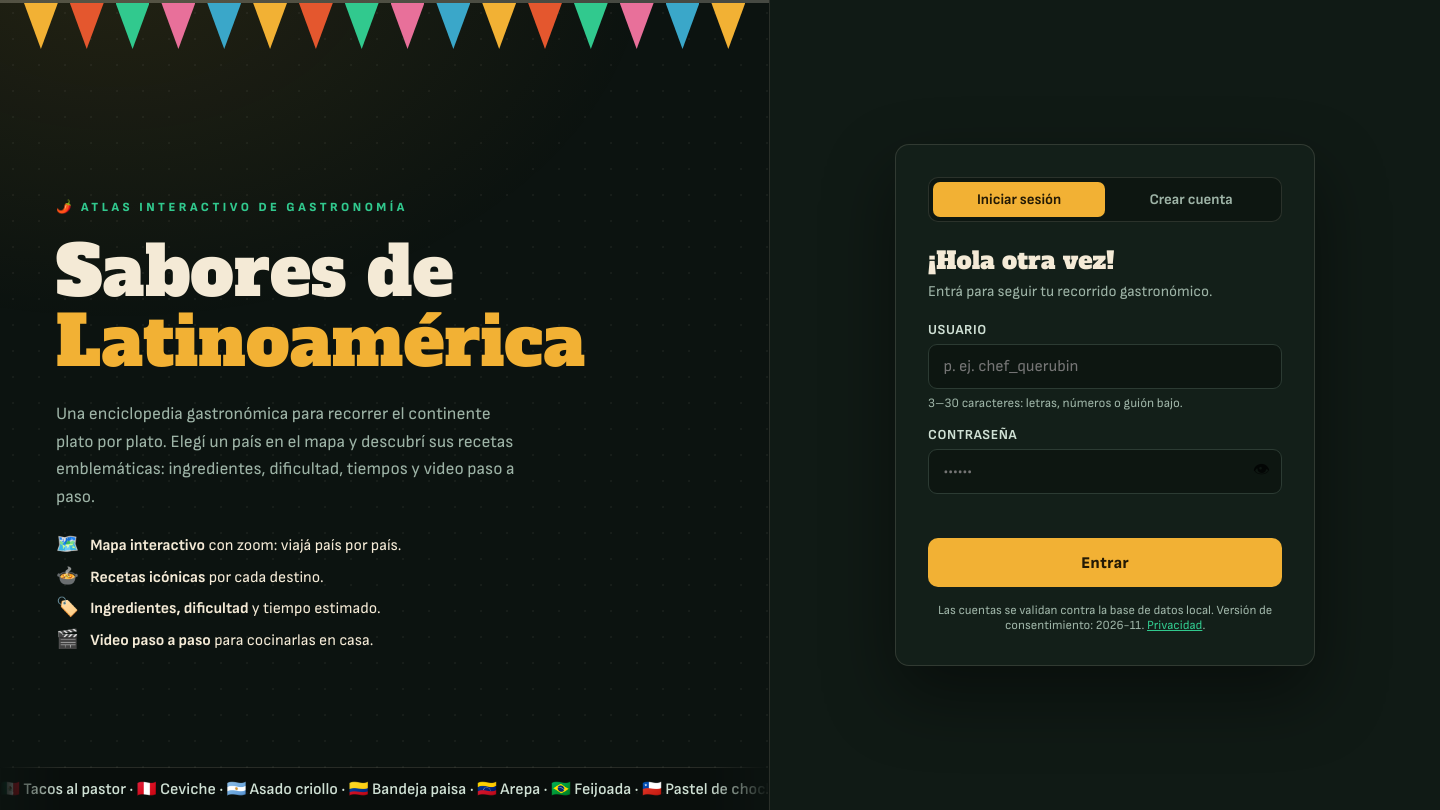
Test: pantalla de auth › no envía el registro si faltan los consentimientos
Click the tab "Crear cuenta".
click(1191, 199)  # box [1105, 182, 1277, 217]
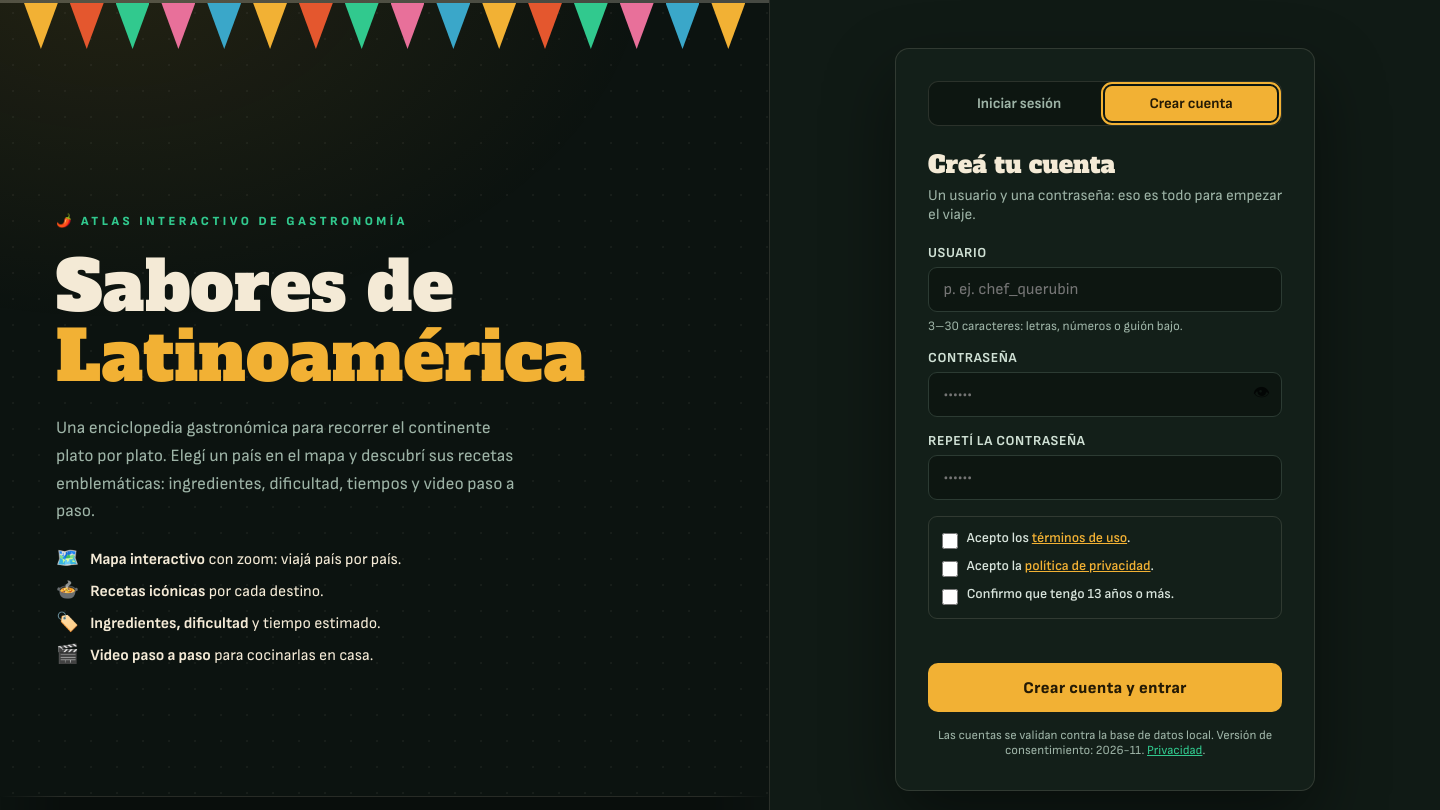
Type "nueva_persona" into the field labelled "Usuario".
click(1105, 290); type("nueva_persona")  # box [928, 267, 1282, 312]
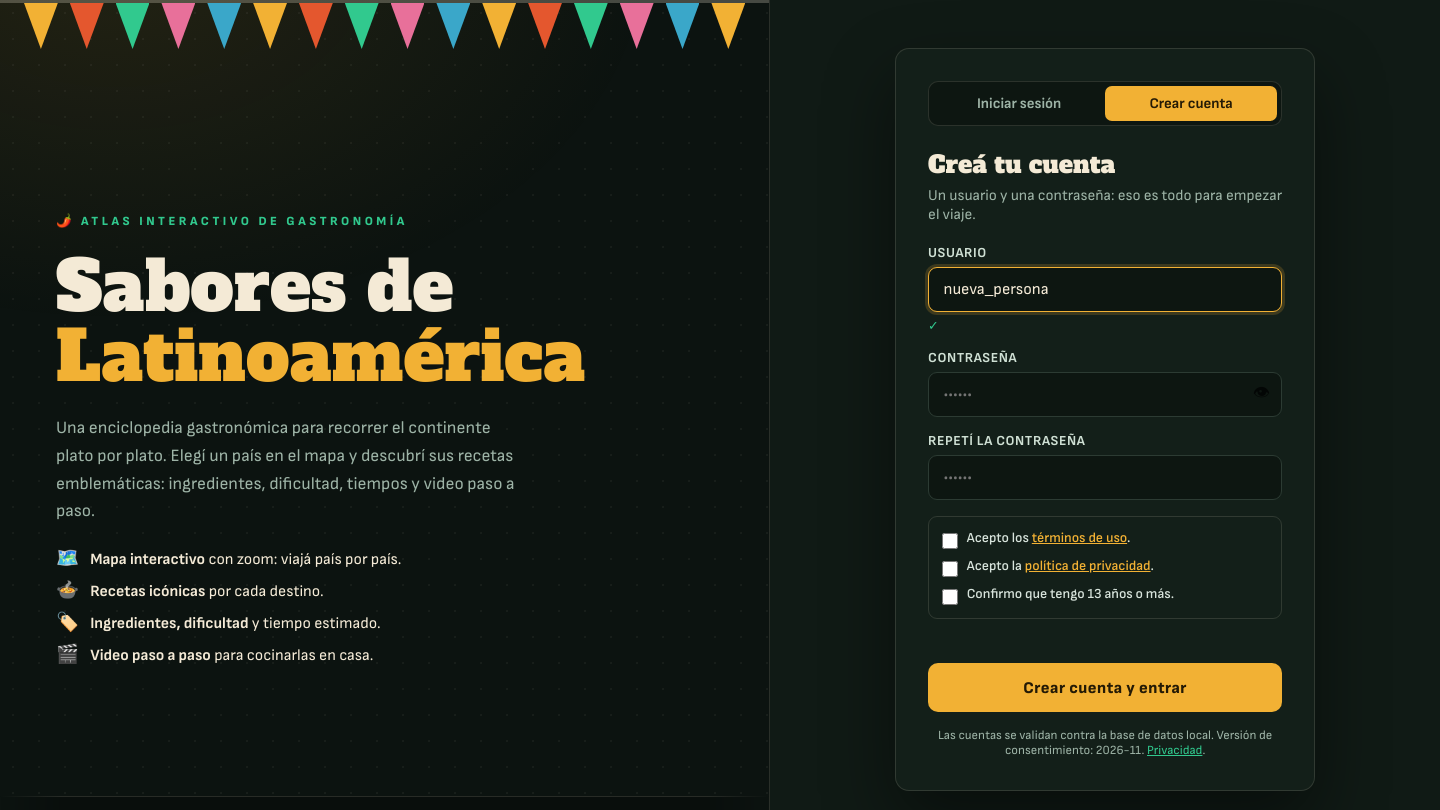
Type "Prueba12345" into the password field labelled "Contraseña".
click(1105, 394); type("Prueba12345")  # box [928, 372, 1282, 417]
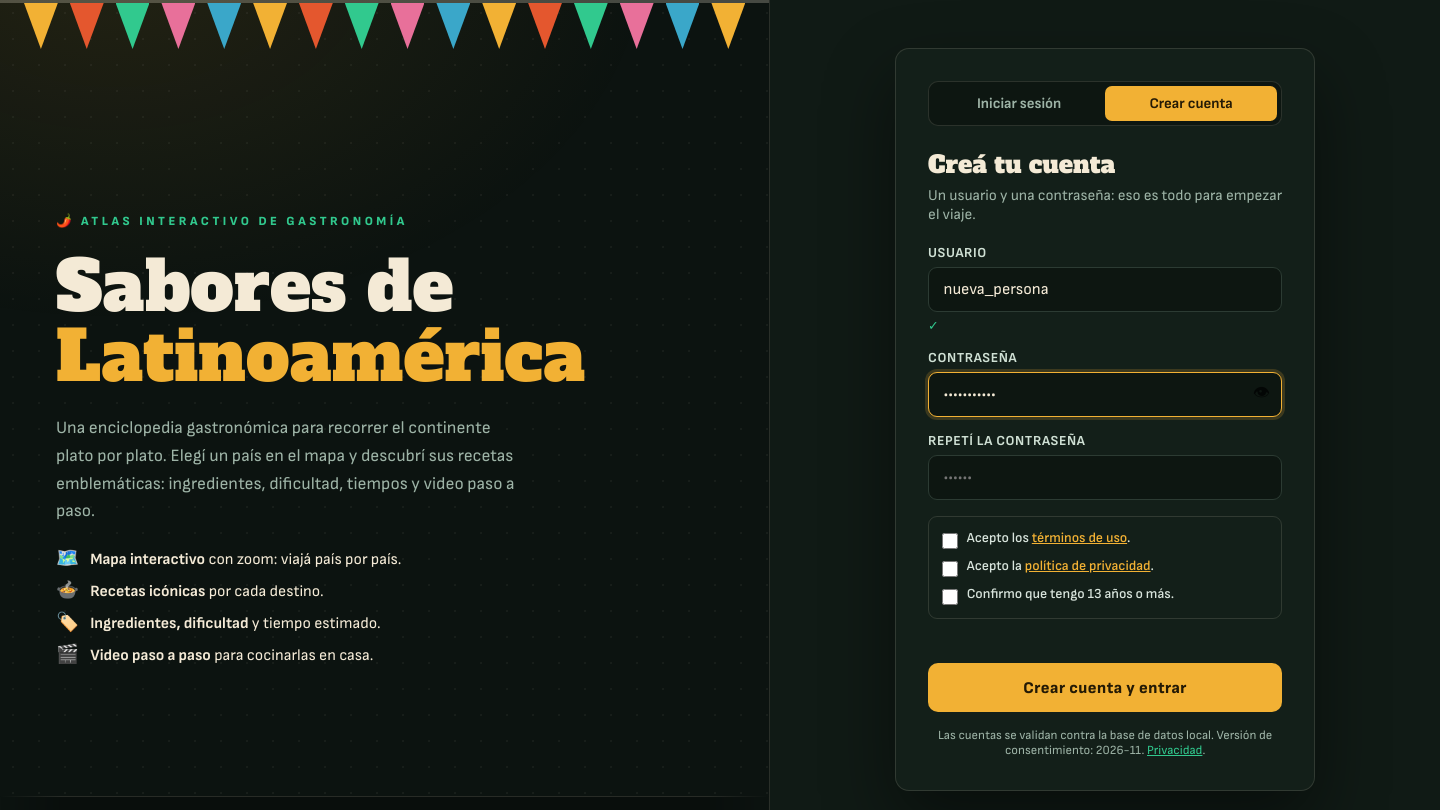
Type "Prueba12345" into the password field labelled "Repetí la contraseña".
click(1105, 478); type("Prueba12345")  # box [928, 455, 1282, 500]
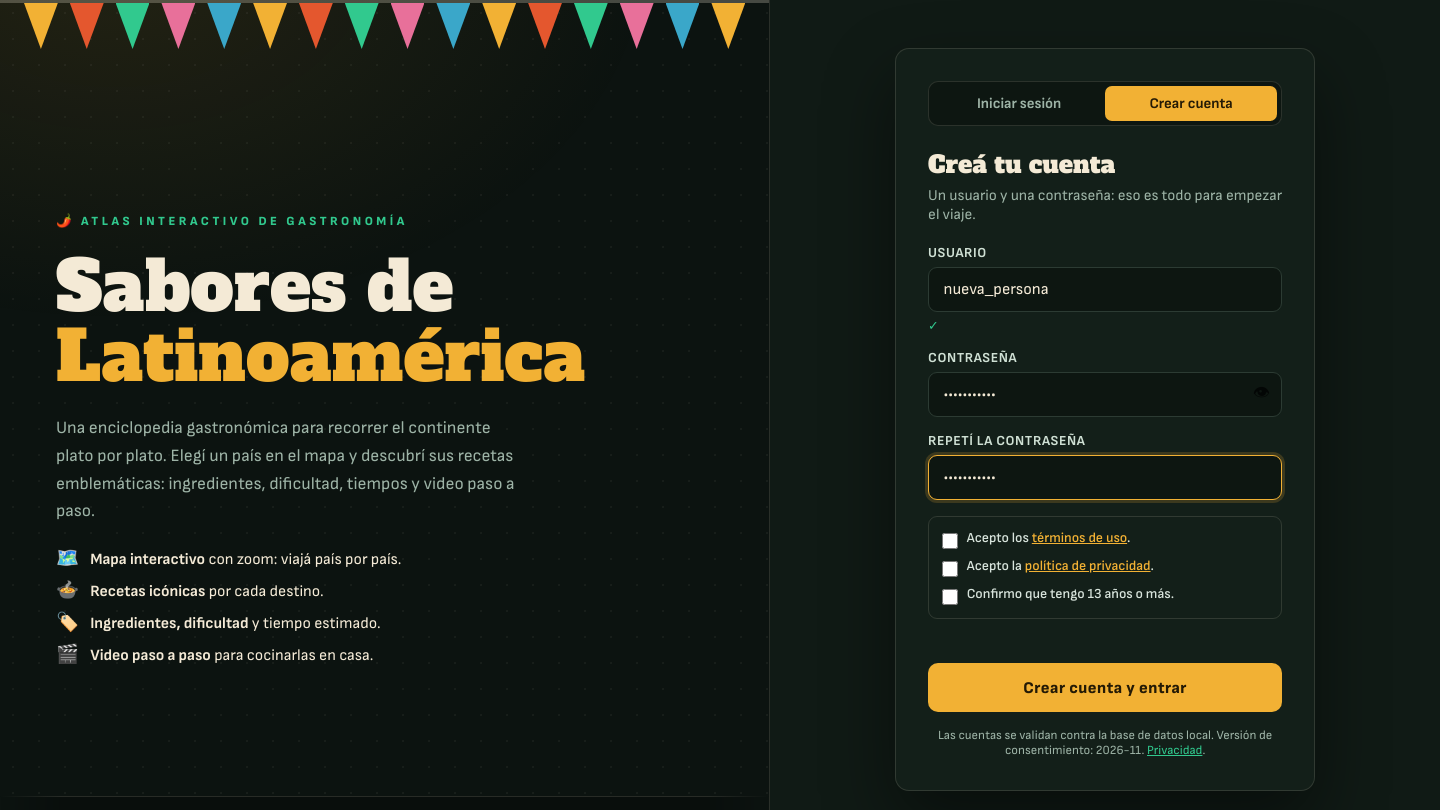
Click the button "Crear cuenta y entrar".
click(1105, 688)  # box [928, 663, 1282, 712]
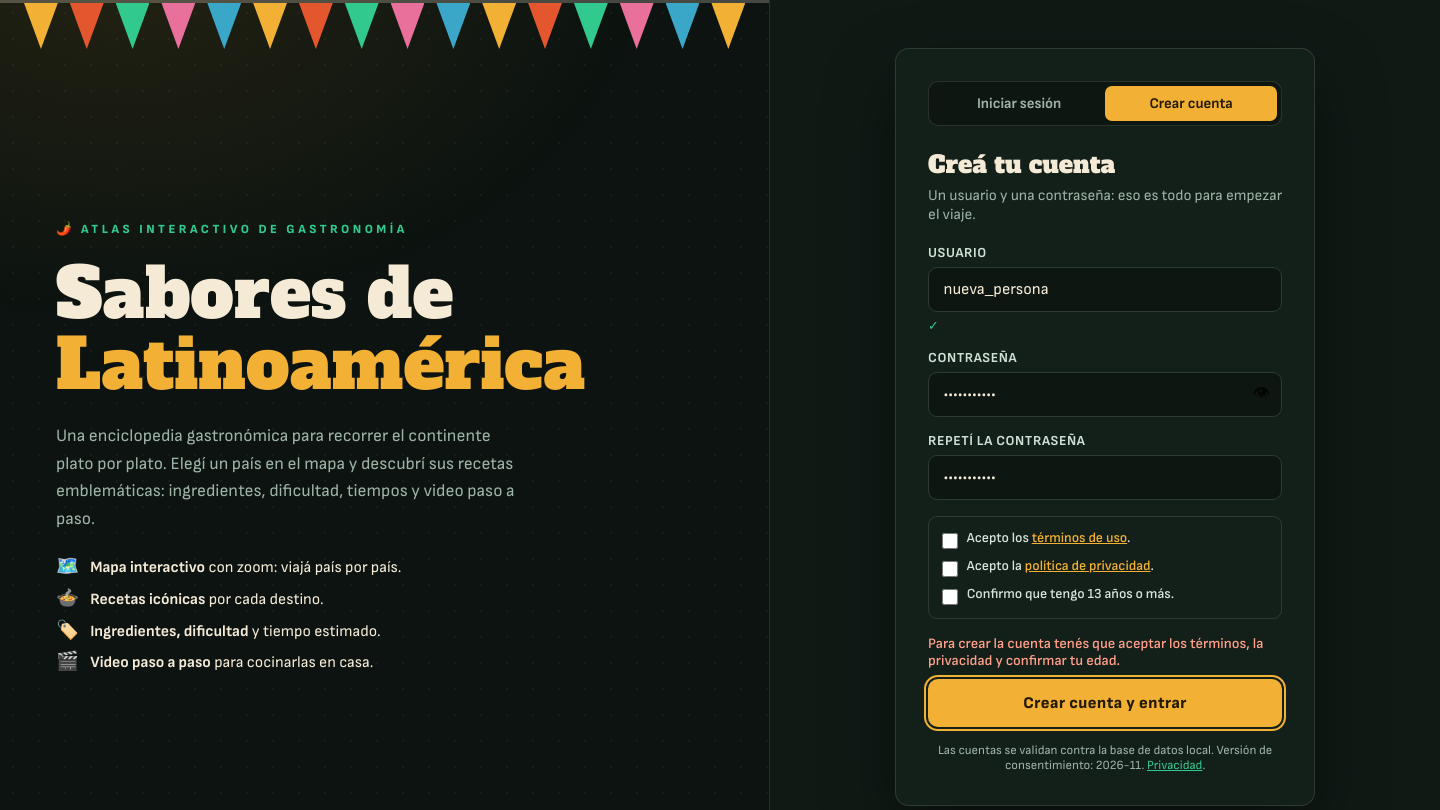
Result: the text "Para crear la cuenta tenés que aceptar los términos" is shown at [928, 635, 1263, 669]
